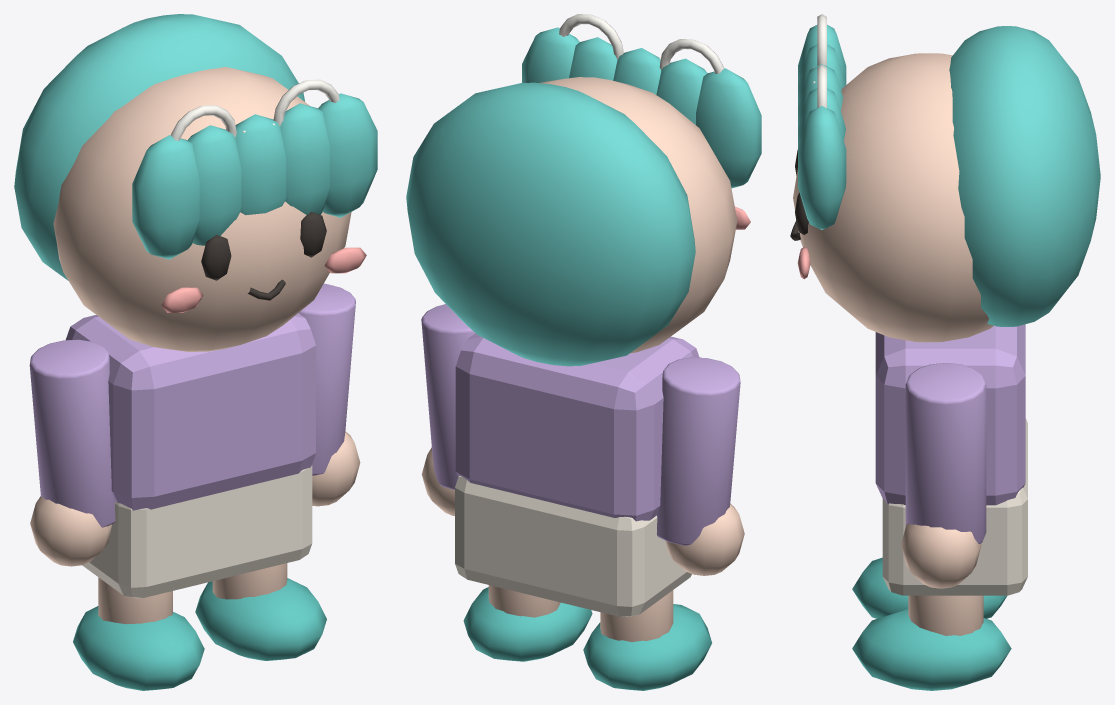
The model's file is customer.glb.
3 renders of one model, left to right at view 1: azimuth 30°, elevation 25°; view 2: azimuth 150°, elevation 25°; view 3: azimuth 270°, elevation 25°, orthographic. The views are drawn at different scales.
Parts seen in each view (by area): view 1: Body_Cloth, Skin, Hair, Cream, Mint, Black, White, Cheek; view 2: Hair, Body_Cloth, Cream, Skin, Mint, White; view 3: Hair, Skin, Body_Cloth, Mint, Cream, White, Black.
Part boxes in pixels (<box>): Body_Cloth: <box>29,283,355,527</box>; Skin: <box>30,67,360,624</box>; Hair: <box>14,14,377,280</box>; Cream: <box>82,465,312,598</box>; Mint: <box>73,578,326,690</box>; Black: <box>201,211,326,300</box>; White: <box>170,79,339,140</box>; Cheek: <box>161,247,366,313</box>; Hair: <box>406,27,761,366</box>; Body_Cloth: <box>421,304,740,545</box>; Cream: <box>455,475,691,616</box>; Skin: <box>421,77,744,641</box>; Mint: <box>463,587,711,690</box>; White: <box>559,14,724,73</box>; Hair: <box>798,25,1100,326</box>; Skin: <box>793,53,993,635</box>; Body_Cloth: <box>875,324,1025,543</box>; Mint: <box>852,557,1011,690</box>; Cream: <box>882,418,1027,595</box>; White: <box>813,14,826,108</box>; Black: <box>790,150,808,240</box>.
Size of the model in its own units: 0.392 by 0.72 by 0.331.
